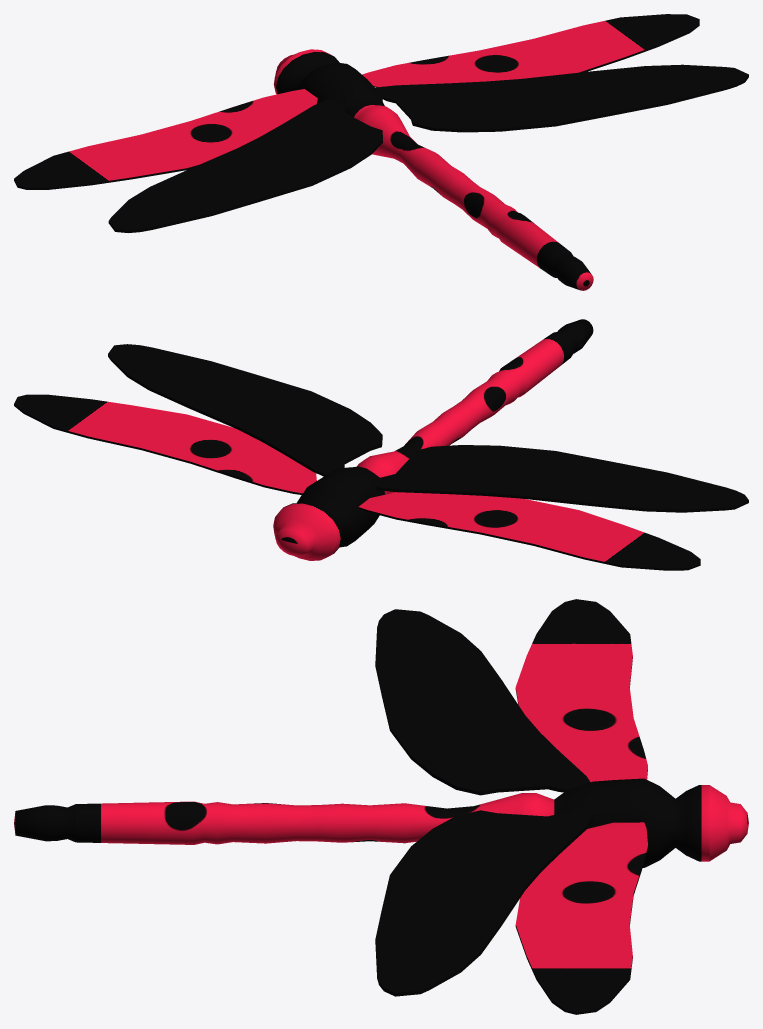
File: Dragonfly.FBX
3 views of the same model, one above another, from view 1: azimuth 30°, elevation 25°; view 2: azimuth 150°, elevation 25°; view 3: azimuth 270°, elevation 25° (orthographic). The views are drawn at different scales.
Visible parts, largest first — view 1: Dragonfly; view 2: Dragonfly; view 3: Dragonfly.
Boxes of the visible parts, left/top/right/bottom form: Dragonfly: left=14, top=14, right=748, bottom=290; Dragonfly: left=14, top=319, right=748, bottom=570; Dragonfly: left=14, top=599, right=748, bottom=1014.
Bounding box in the file's own units: 64.07 × 5.8 × 48.15.
